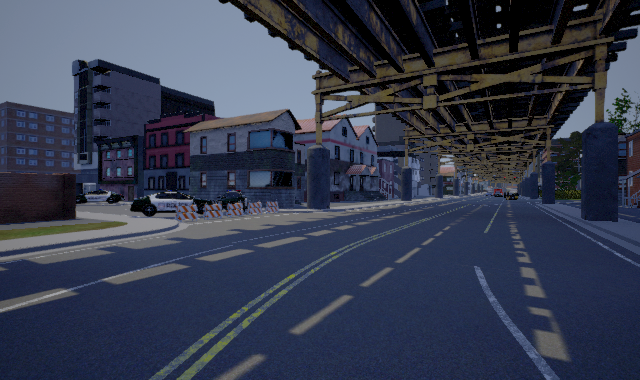vehicle: (130, 190, 248, 217), (76, 189, 125, 204)
